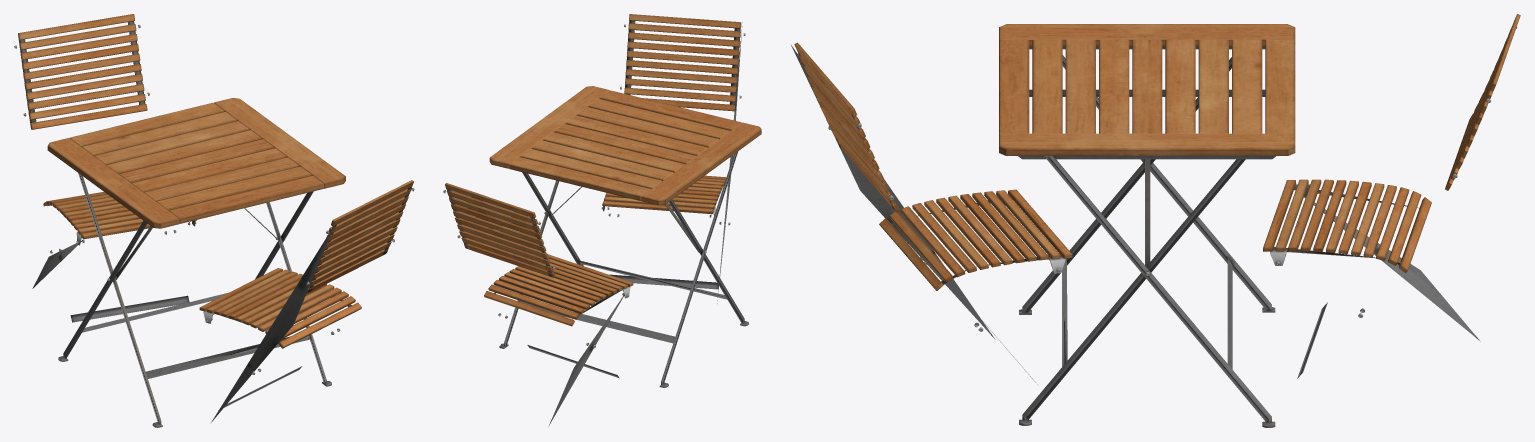
File: outdoor_table_chair_set_01.glb
3 renders of one model, left to right at view 1: azimuth 30°, elevation 25°; view 2: azimuth 150°, elevation 25°; view 3: azimuth 270°, elevation 25°, orthographic. The views are drawn at different scales.
Visible parts, largest first — view 1: outdoor_table_chair_set_01_table, outdoor_table_chair_set_01_chair_01; view 2: outdoor_table_chair_set_01_table, outdoor_table_chair_set_01_chair_01; view 3: outdoor_table_chair_set_01_table, outdoor_table_chair_set_01_chair_01.
Boxes of the visible parts, x1=… form: outdoor_table_chair_set_01_table: x1=47, y1=98, x2=345, y2=427; outdoor_table_chair_set_01_chair_01: x1=14, y1=14, x2=414, y2=422; outdoor_table_chair_set_01_table: x1=489, y1=86, x2=761, y2=387; outdoor_table_chair_set_01_chair_01: x1=443, y1=14, x2=745, y2=426; outdoor_table_chair_set_01_table: x1=999, y1=24, x2=1295, y2=427; outdoor_table_chair_set_01_chair_01: x1=791, y1=14, x2=1520, y2=385.
Bounding box in the file's own units: 0.7404 × 0.8482 × 1.7.
2 materials, 2 textured.
